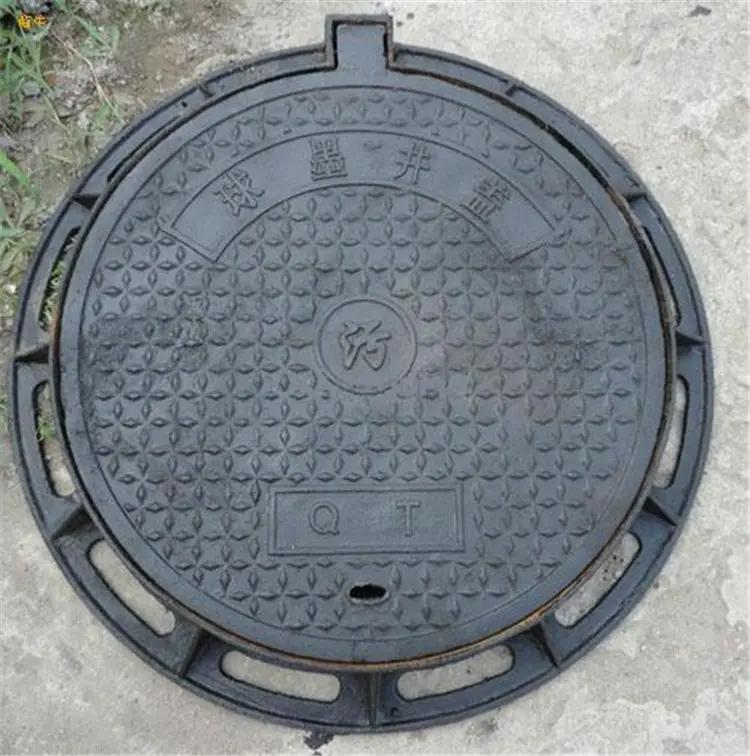wellcover: (0, 13, 750, 756)
